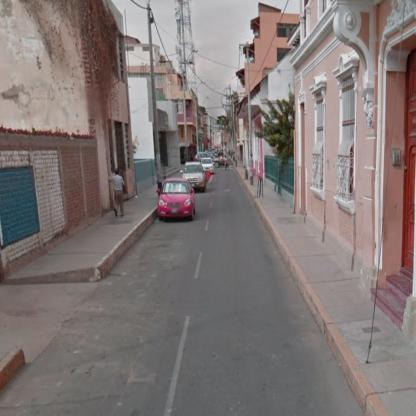Peaton: (110, 170, 126, 218)
Pista: (2, 157, 364, 414)
Vehiculo: (157, 178, 197, 223), (202, 158, 216, 174)
